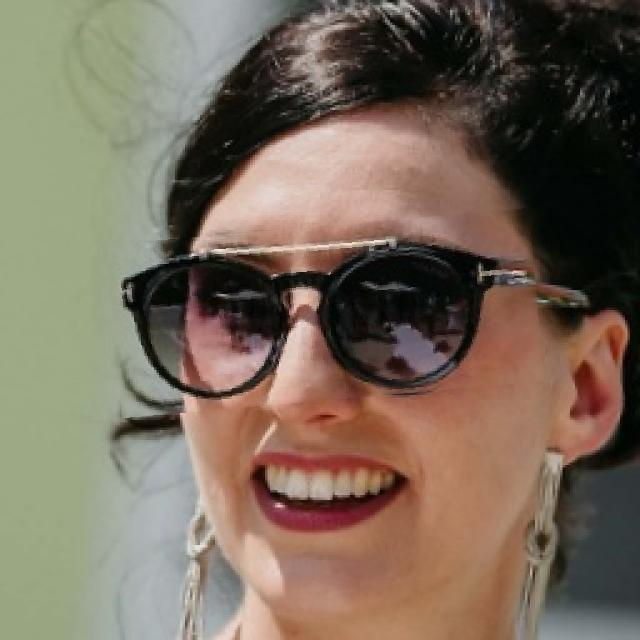glasses: (111, 217, 541, 409)
